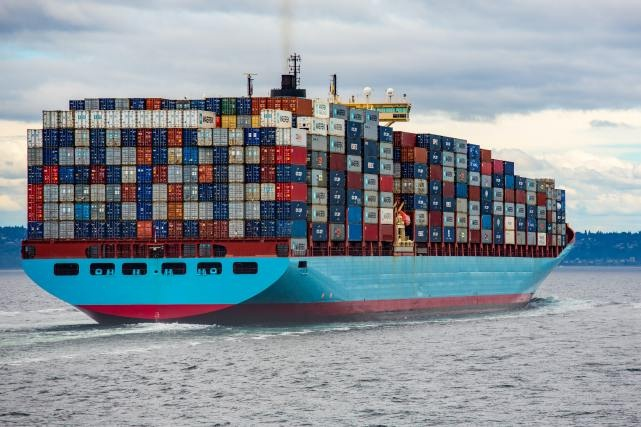Cargoship: (18, 48, 579, 338)
